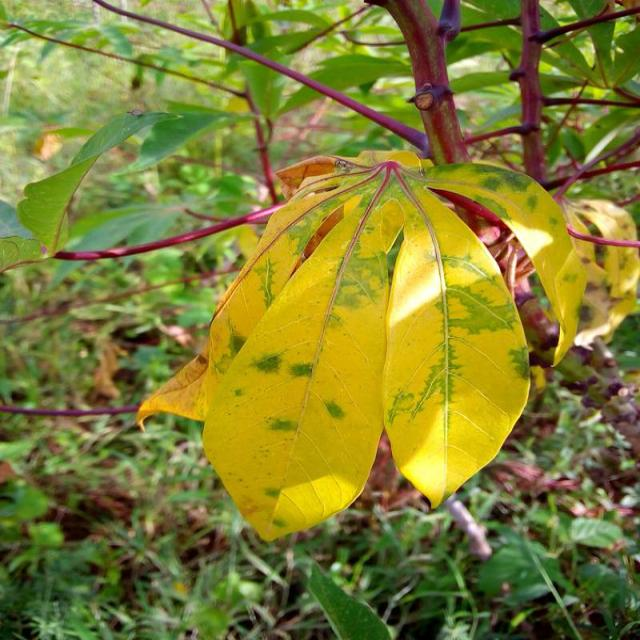cassava leaf: (137, 149, 583, 542), (382, 196, 532, 510)
